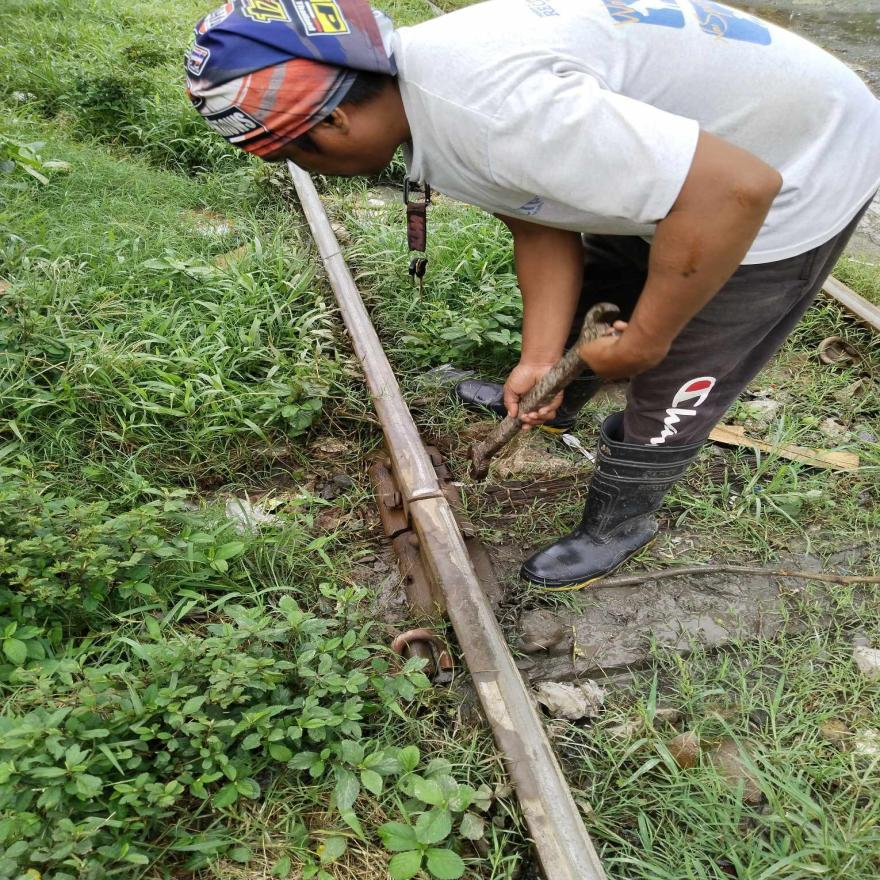railway-gap: (361, 459, 484, 537)
